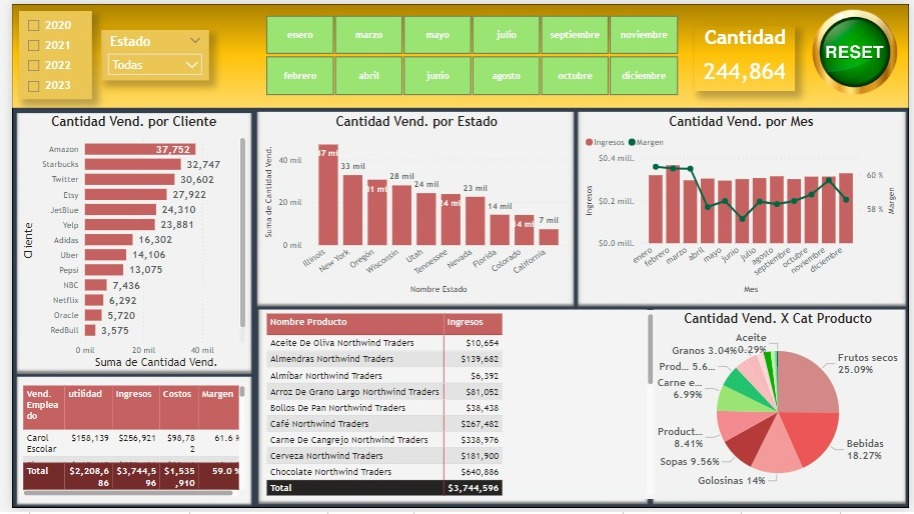

Layout of this report page (visuals, bound fields, positions):
{"tool":"powerbi","page":{"name":"Metricas por cantidad ","canvas":[1280,720],"ordinal":1},"visuals":[{"type":"clusteredBarChart","title":"Cantidad Vend. por Cliente","fields":{"Y":["Ventas.Cantidad Vend."],"Category":["Ventas.Cliente"]},"box":[9.7,155.7,328,371.1],"z":0},{"type":"columnChart","title":"Cantidad Vend. por Estado","fields":{"Category":["Ventas.Nombre Estado"],"Y":["Ventas.Cantidad Vend."]},"box":[356.1,156.2,443.5,263.7],"z":1000},{"type":"lineStackedColumnComboChart","title":"Cantidad Vend. por Mes","fields":{"Category":["calendario.fecha .Variación.Jerarquía de fechas.Mes"],"Y":["Medidas DAX.Ingresos"],"Y2":["Medidas DAX.Margen"]},"box":[813.4,155.5,455.2,264],"z":2000},{"type":"pieChart","title":"Cantidad Vend. X Cat Producto","fields":{"Category":["Ventas.Categoria Producto"],"Y":["Ventas.Cantidad Vend."]},"box":[917.4,436.4,351.7,269.7],"z":3000},{"type":"tableEx","fields":{"Values":["Ventas.Vend. Empleado","Medidas DAX.utilidad","Medidas DAX.Ingresos","Medidas DAX.Costos","Medidas DAX.Margen"]},"box":[10,539.4,328.2,168.4],"z":4000},{"type":"pivotTable","fields":{"Rows":["Ventas.Nombre Producto"],"Values":["Medidas DAX.Ingresos"]},"box":[358.6,436.4,561.5,269.7],"z":5000},{"type":"slicer","fields":{"Values":["Ventas.Nombre Estado"]},"box":[126.5,37.5,154.3,72.3],"z":6000},{"type":"slicer","fields":{"Values":["calendario.fecha .Variación.Jerarquía de fechas.Mes"]},"box":[337.8,9.7,636.6,126.5],"z":7000},{"type":"card","title":"Cantidad","fields":{"Values":["Ventas.Cantidad Vend."]},"box":[974.4,32,143.2,93.1],"z":8000},{"type":"slicer","fields":{"Values":["calendario.fecha .Variación.Jerarquía de fechas.Año"]},"box":[9.7,9.7,104.2,126.5],"z":9000},{"type":"image","box":[1137,0,130.7,136.2],"z":10000}]}

Visuals, with their boxes in screenshot pixels (x1, y1, x2, y2), scaled from the page's 1280x720 canvas onto the 914x514 screenshot:
"Cantidad Vend. por Cliente" clusteredBarChart: 7/111/241/376
"Cantidad Vend. por Estado" columnChart: 254/112/571/300
"Cantidad Vend. por Mes" lineStackedColumnComboChart: 581/111/906/299
"Cantidad Vend. X Cat Producto" pieChart: 655/312/906/504
tableEx - Ventas.Vend. Empleado x Medidas DAX.utilidad: 7/385/241/505
pivotTable - Ventas.Nombre Producto x Medidas DAX.Ingresos: 256/312/657/504
slicer - Ventas.Nombre Estado: 90/27/201/78
slicer - calendario.fecha .Variación.Jerarquía de fechas.Mes: 241/7/696/97
"Cantidad" card: 696/23/798/89
slicer - calendario.fecha .Variación.Jerarquía de fechas.Año: 7/7/81/97
image: 812/0/905/97
